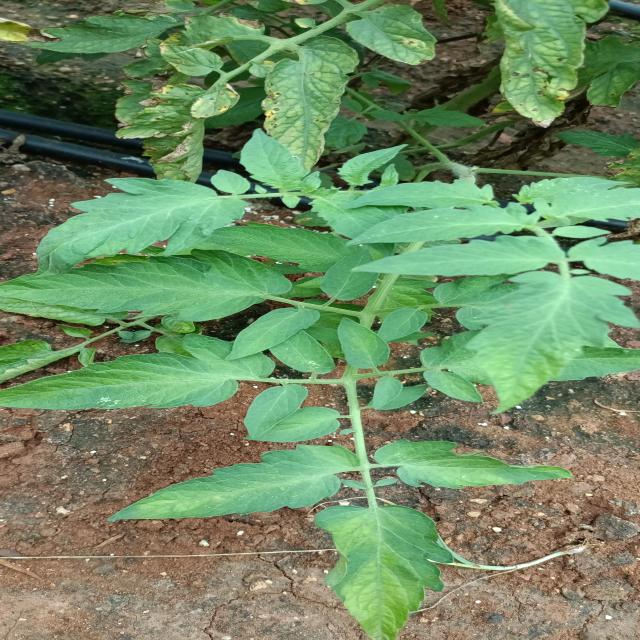Healthy Leaf: (93, 442, 344, 526), (321, 498, 463, 640), (1, 342, 258, 418), (0, 248, 313, 310), (383, 435, 576, 491), (326, 316, 409, 367)
